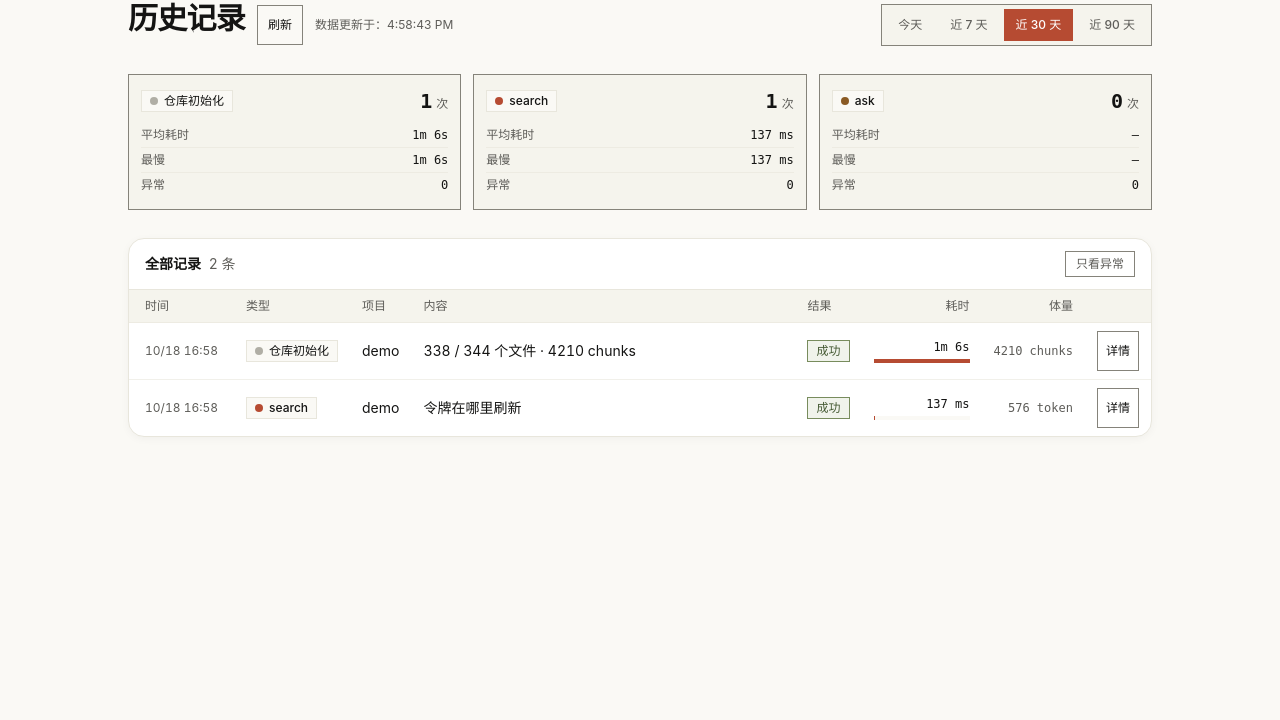
Test case: §C 历史页 trace id（TASK-094） › 检索记录的详情里显示可复制的 trace id
Click the button "详情" in the row of "令牌在哪里刷新".
click(1118, 408)  # box [1097, 388, 1139, 428]
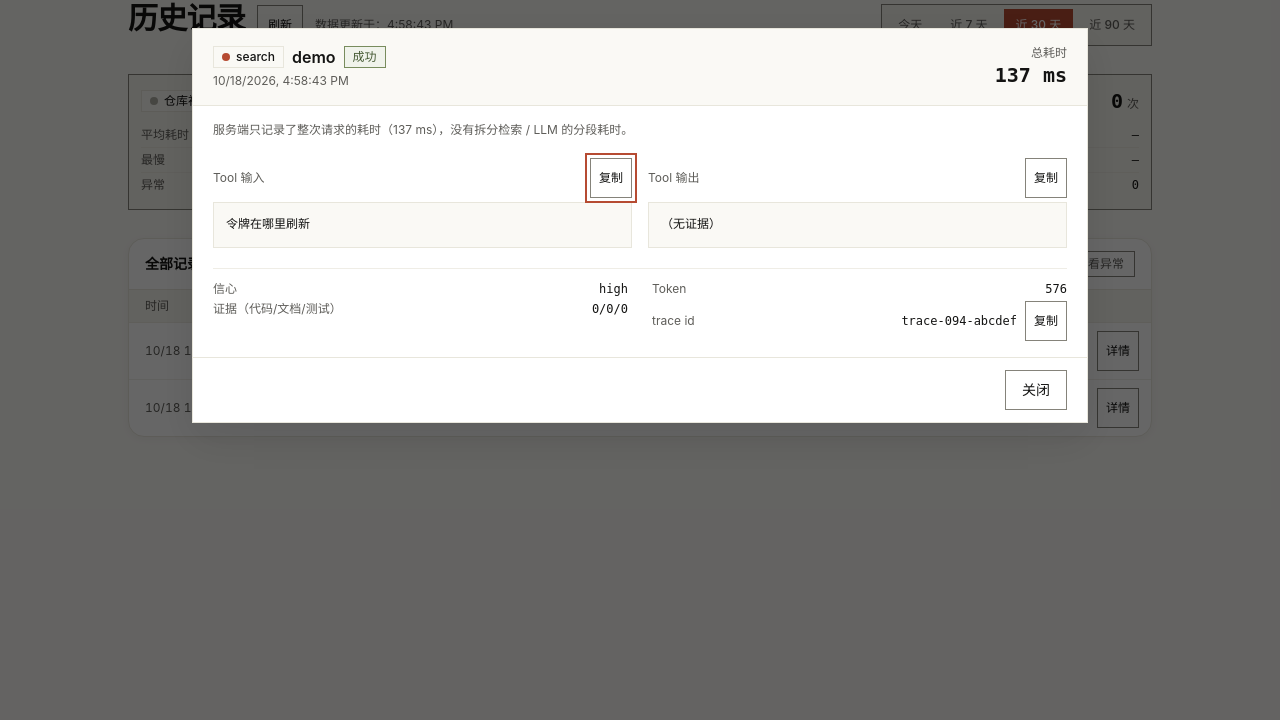
expect the text "trace id" is shown: met, box [652, 312, 695, 328]
expect the text "trace-094-abcdef" is shown: met, box [901, 312, 1017, 328]
